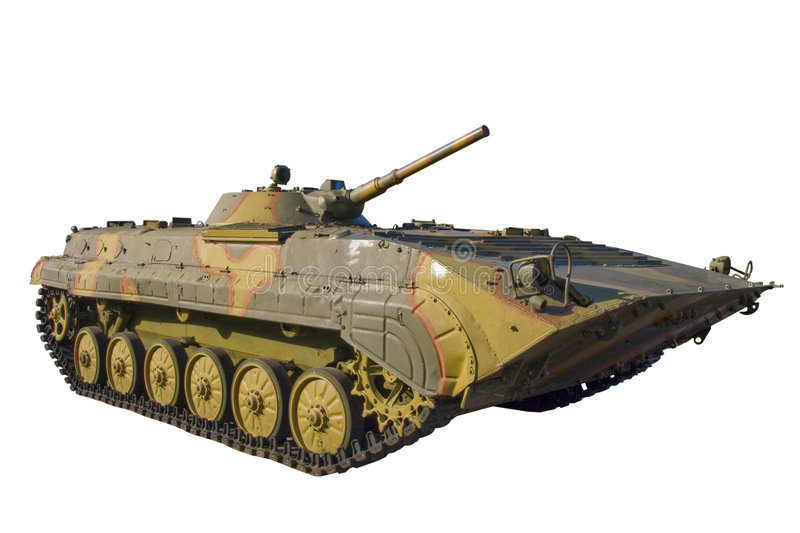bmp1: (36, 128, 773, 471)
